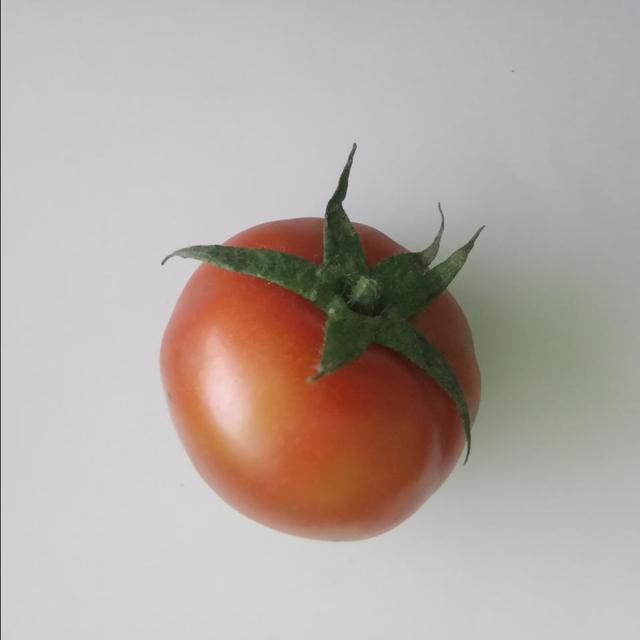Healthy Fruit: (101, 139, 325, 366)
